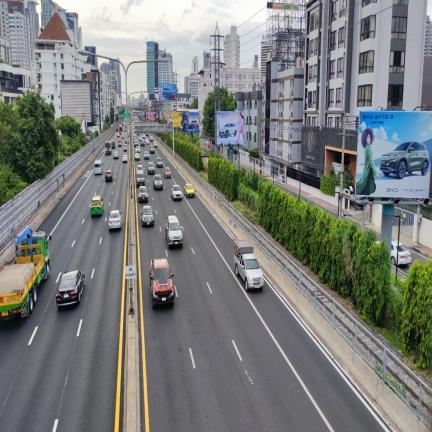car: (380, 141, 429, 178), (56, 270, 84, 306), (390, 241, 411, 265), (218, 123, 237, 137), (109, 210, 122, 230), (141, 206, 154, 225), (171, 184, 182, 200), (138, 186, 148, 202), (136, 171, 145, 187), (162, 88, 174, 100), (153, 174, 163, 188), (188, 120, 198, 131), (147, 161, 155, 173), (105, 170, 113, 181), (164, 167, 171, 178), (157, 158, 163, 167), (113, 151, 119, 158), (136, 165, 143, 171), (122, 155, 127, 163), (140, 139, 145, 146), (144, 152, 149, 159), (150, 146, 155, 152), (111, 142, 115, 149), (145, 137, 149, 144), (135, 147, 140, 152), (134, 140, 138, 146), (123, 145, 127, 151), (118, 140, 121, 146), (142, 133, 145, 139), (150, 137, 153, 142), (117, 133, 120, 137), (145, 133, 148, 136), (139, 136, 141, 140), (122, 134, 124, 138)
human: (355, 127, 379, 195), (236, 112, 244, 145)
pickup: (149, 259, 174, 308)
taxi: (90, 196, 103, 215), (184, 183, 195, 196), (151, 140, 157, 147), (134, 153, 140, 160)
truck: (0, 226, 49, 318), (234, 240, 264, 290), (165, 216, 183, 248), (106, 142, 111, 154), (119, 125, 123, 133), (49, 236, 50, 239)
van: (94, 160, 102, 174)
